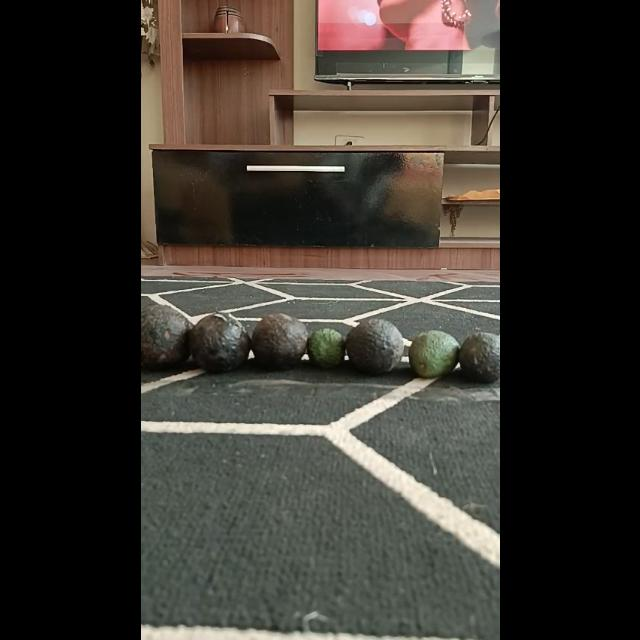Primera: (188, 313, 250, 373), (140, 304, 192, 368), (250, 314, 308, 370), (345, 318, 403, 374)
Segunda: (408, 329, 458, 378), (456, 332, 498, 382)
Tercera: (305, 327, 345, 369)
